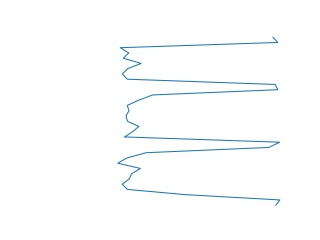majorRiverChannelBar: (118, 36, 284, 205)
